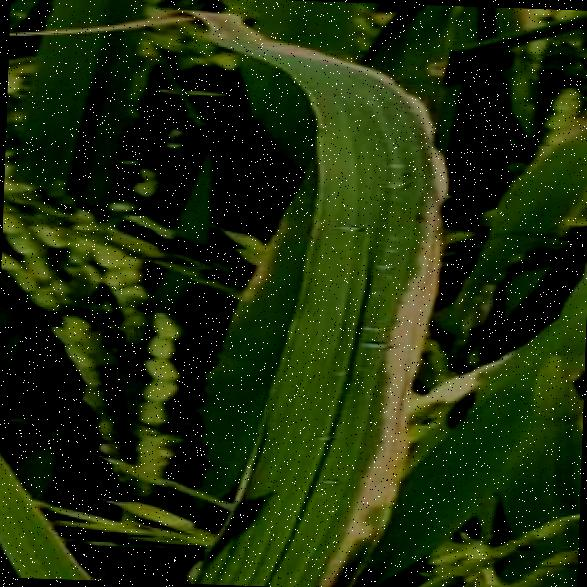Bacteria_Leaf_Blight: (274, 131, 450, 584)
